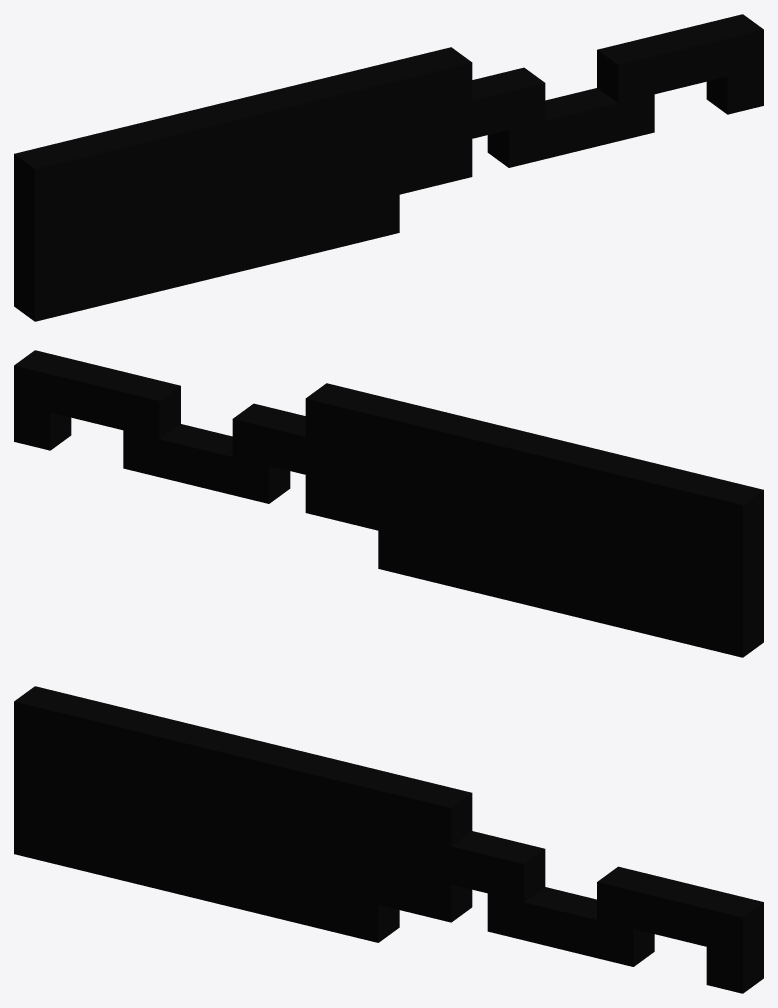
File: Gauge_ZombieSkin_Thick_Half.002.fbx
3 renders of one model, top to bottom at view 1: azimuth 30°, elevation 25°; view 2: azimuth 150°, elevation 25°; view 3: azimuth 330°, elevation 25°, orthographic.
Visible parts, largest first — view 1: Gauge_ZombieSkin_Thick_Half.002; view 2: Gauge_ZombieSkin_Thick_Half.002; view 3: Gauge_ZombieSkin_Thick_Half.002.
Part boxes in pixels (x1=…): Gauge_ZombieSkin_Thick_Half.002: x1=14, y1=14, x2=763, y2=321; Gauge_ZombieSkin_Thick_Half.002: x1=14, y1=350, x2=763, y2=657; Gauge_ZombieSkin_Thick_Half.002: x1=14, y1=686, x2=763, y2=993.
Bounding box in the file's own units: 2 × 0.4 × 0.1.
